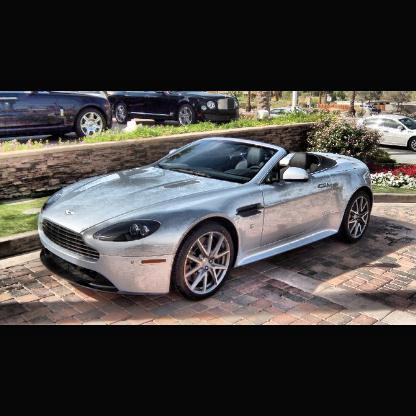Aston Martin V8 Vantage Convertible 2012: (38, 137, 376, 304)
